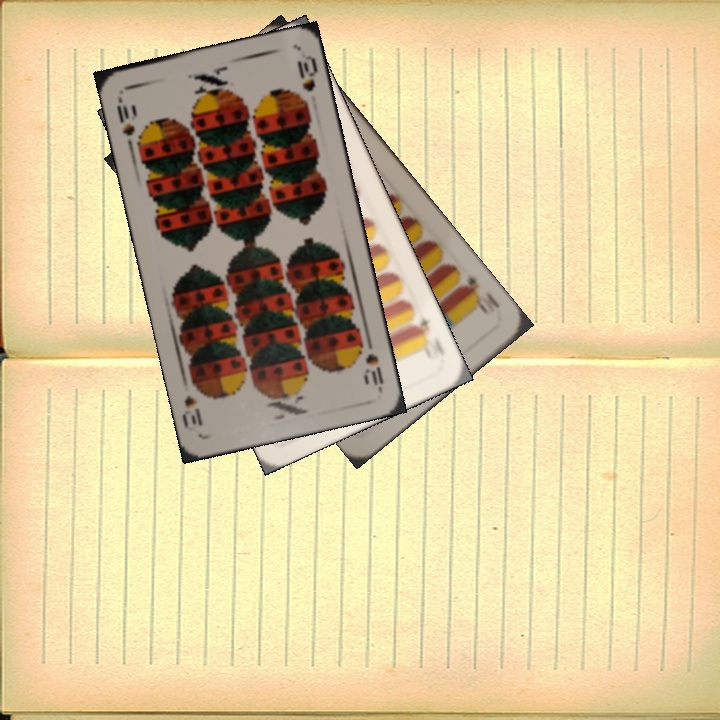E10: (457, 270, 503, 317), (408, 312, 436, 348)
S10: (360, 332, 386, 391), (112, 92, 138, 139)
